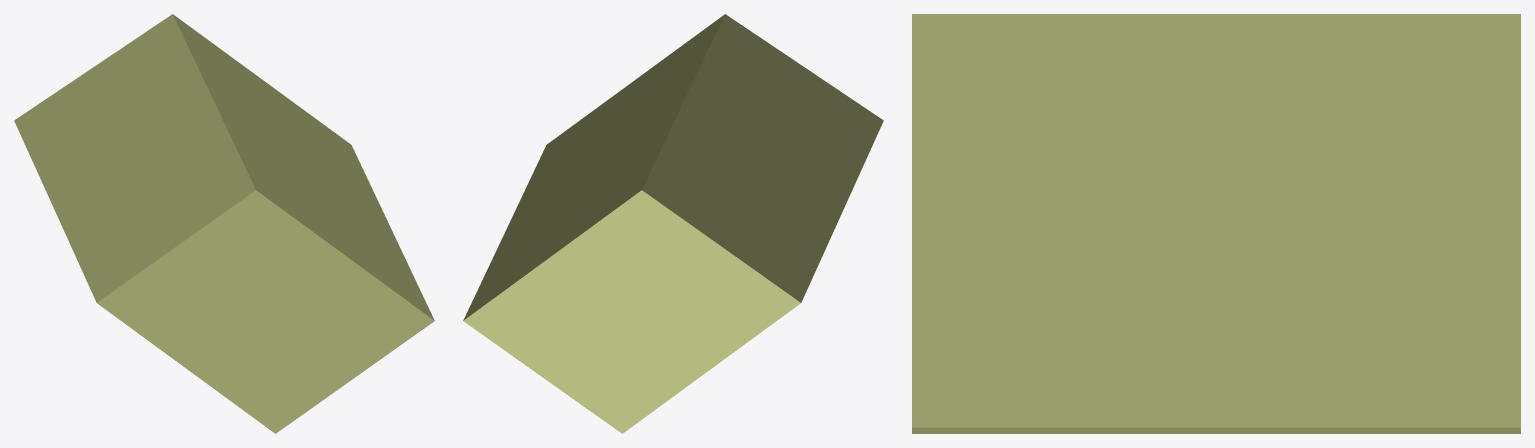
3 renders of one model, left to right at view 1: azimuth 30°, elevation 25°; view 2: azimuth 150°, elevation 25°; view 3: azimuth 270°, elevation 25°, orthographic. The views are drawn at different scales.
Parts seen in each view (by area): view 1: 0_1_3_2_2_2_2_0_3_2_0; view 2: 0_1_3_2_2_2_2_0_3_2_0; view 3: 0_1_3_2_2_2_2_0_3_2_0.
Boxes of the visible parts, x1,y1,x2,y2 form: 0_1_3_2_2_2_2_0_3_2_0: (14,14,434,433); 0_1_3_2_2_2_2_0_3_2_0: (463,14,883,433); 0_1_3_2_2_2_2_0_3_2_0: (912,14,1520,433).
Bounding box in the file's own units: 7.03 × 7.51 × 9.
